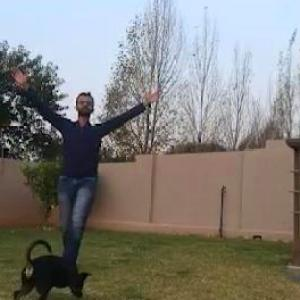takeoff: (0, 45, 166, 280)
